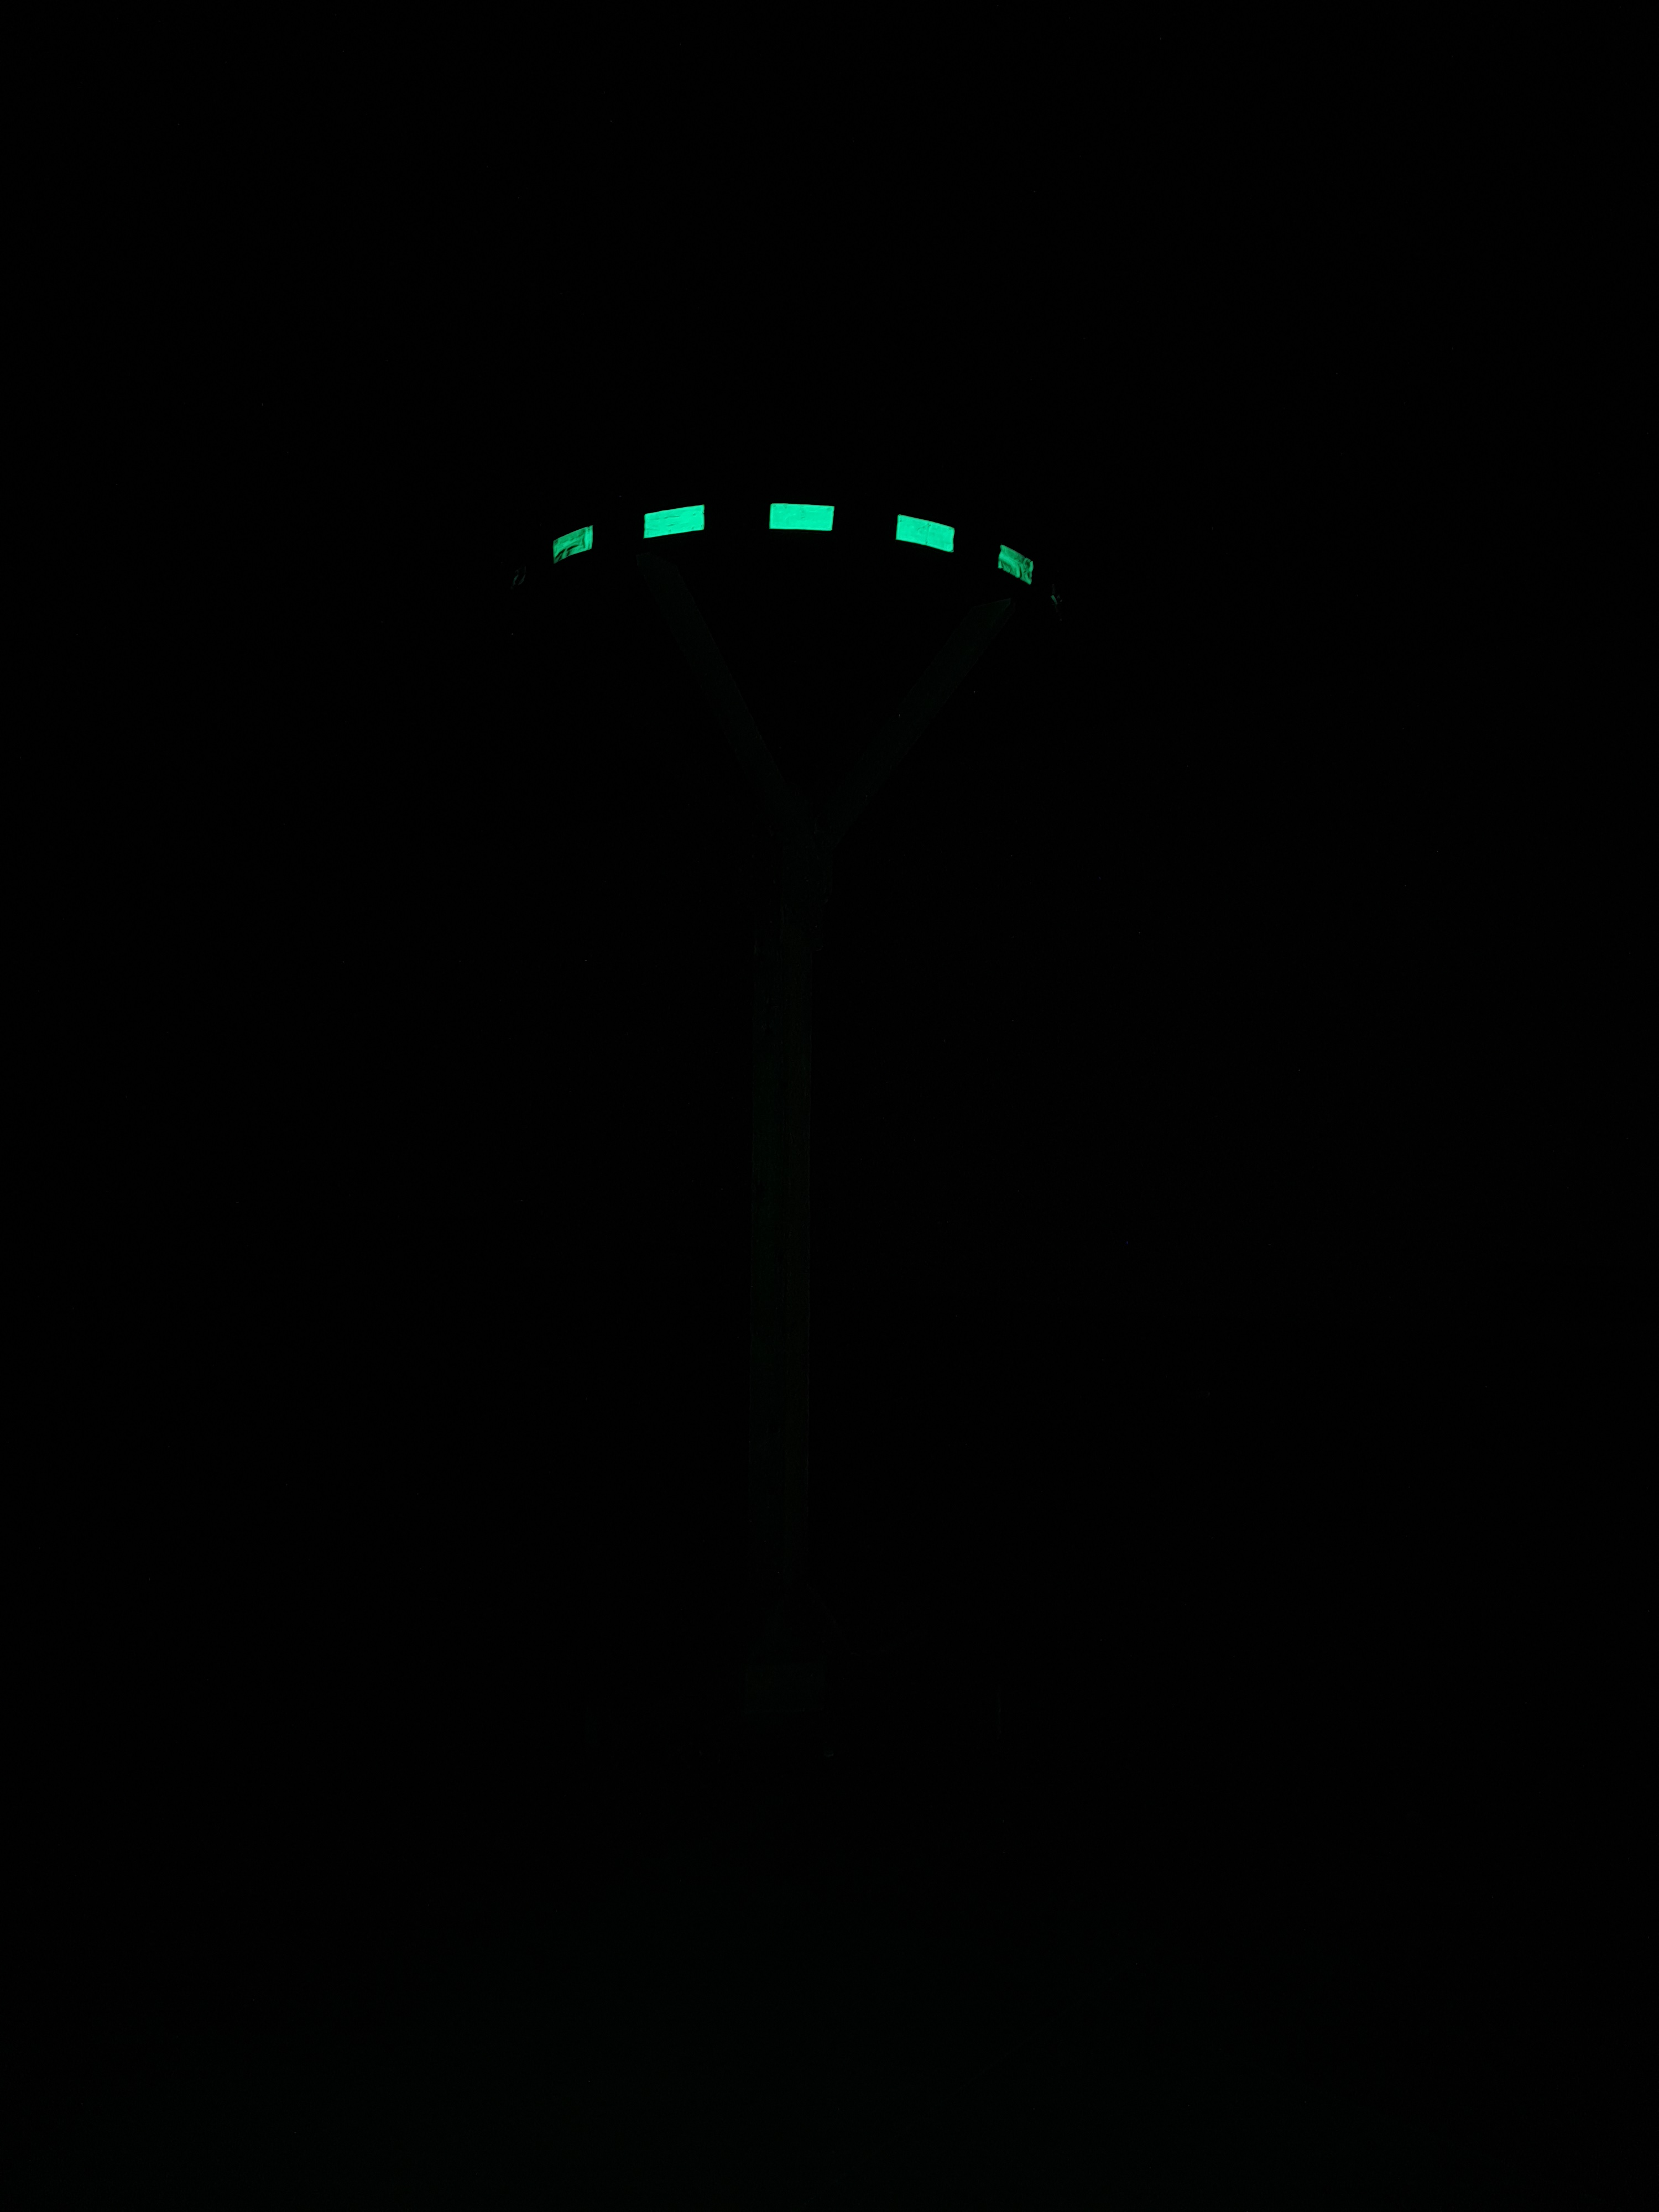hoop: (552, 495, 1037, 589)
